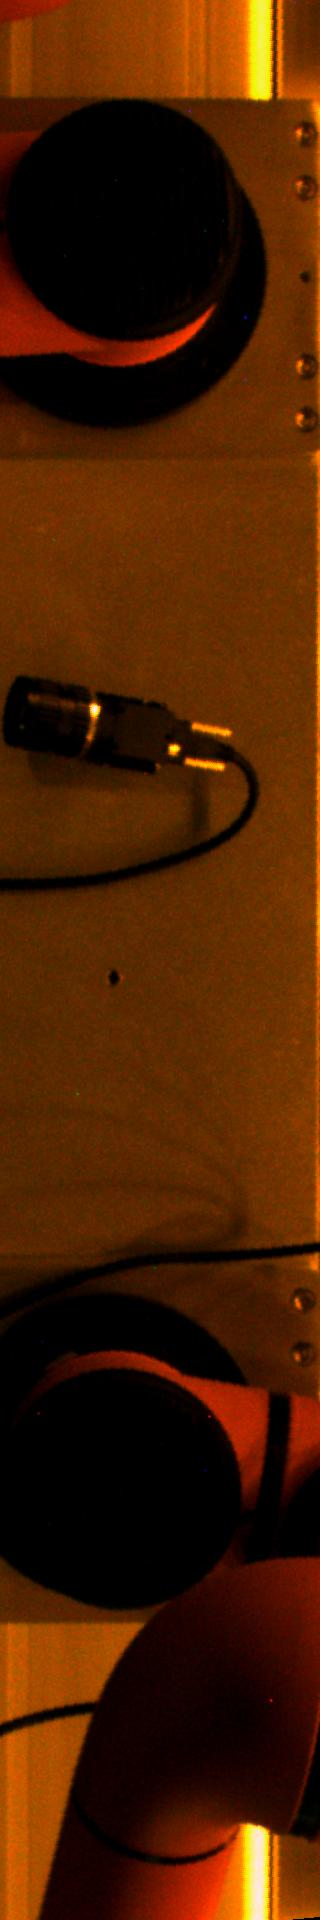keyPoint_2: (98, 962, 128, 993)
